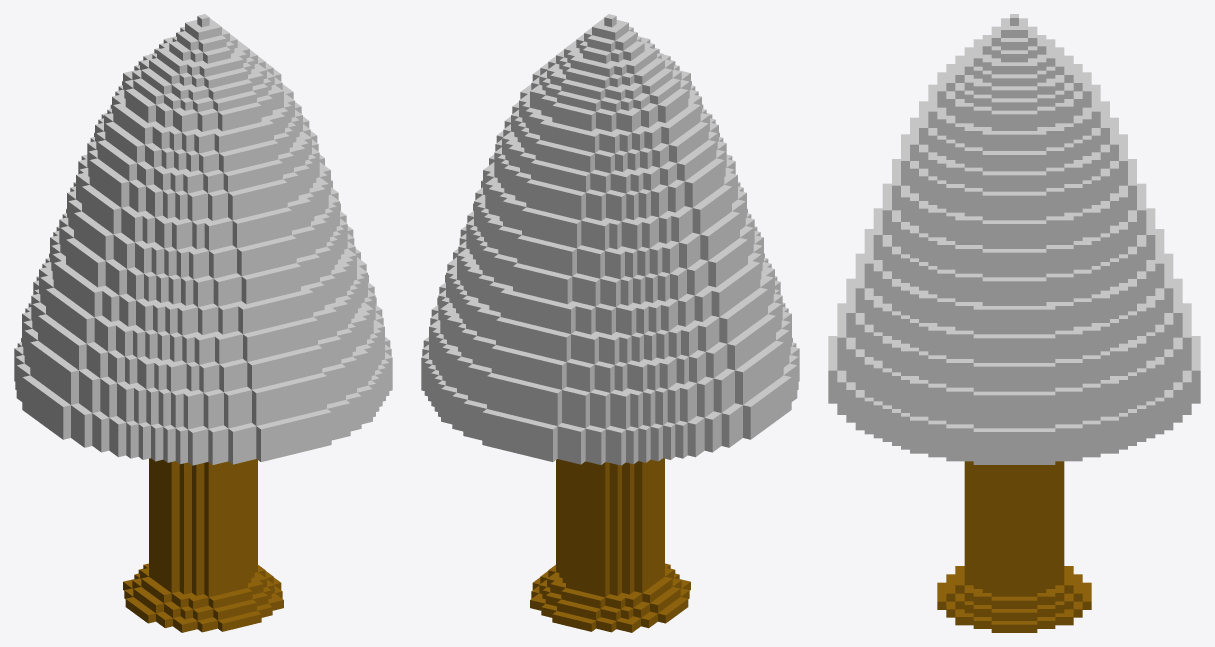
File: Winter Tree03-0.fbx
The picture shows the model from 3 angles, left to right: view 1: azimuth 30°, elevation 25°; view 2: azimuth 150°, elevation 25°; view 3: azimuth 270°, elevation 25°; orthographic projection.
Visible parts, largest first — view 1: Tree03-0, Tree01-Stem, Tree01-Root; view 2: Tree03-0, Tree01-Stem, Tree01-Root; view 3: Tree03-0, Tree01-Stem, Tree01-Root.
Part boxes in pixels (x1=…): Tree03-0: x1=14, y1=14, x2=392, y2=465; Tree01-Stem: x1=149, y1=458, x2=257, y2=597; Tree01-Root: x1=123, y1=563, x2=283, y2=632; Tree03-0: x1=421, y1=14, x2=799, y2=465; Tree01-Stem: x1=556, y1=458, x2=664, y2=597; Tree01-Root: x1=530, y1=563, x2=690, y2=632; Tree03-0: x1=828, y1=14, x2=1200, y2=464; Tree01-Stem: x1=964, y1=461, x2=1064, y2=596; Tree01-Root: x1=937, y1=566, x2=1091, y2=632.
Bounding box in the file's own units: 410 × 710 × 410.
